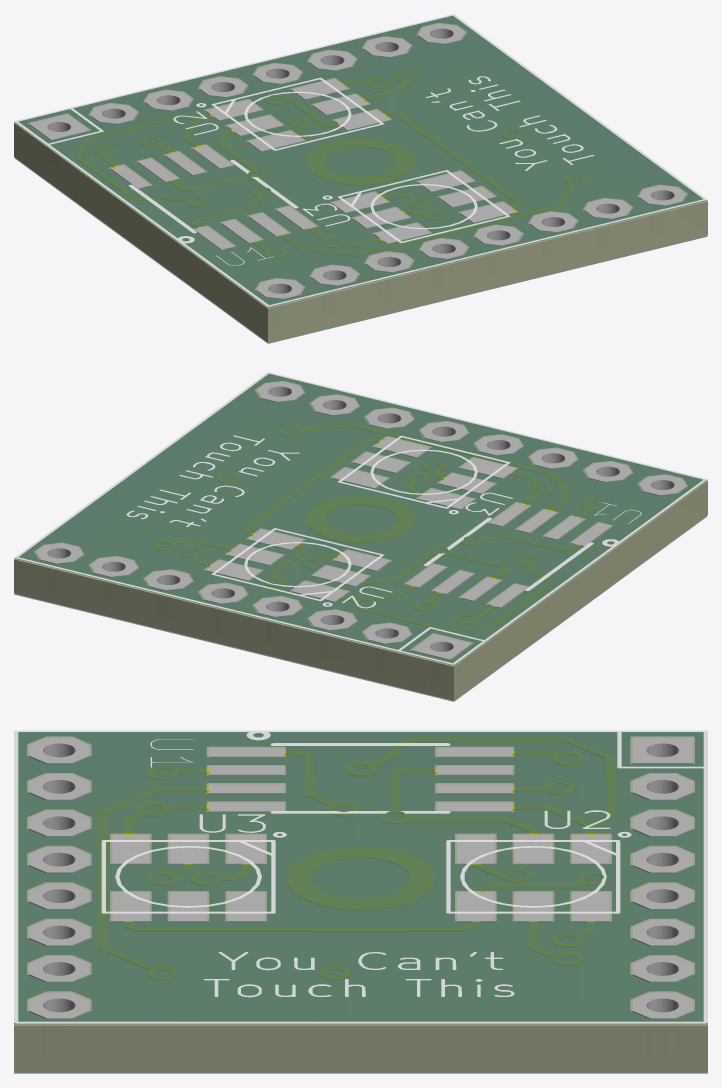
The model's file is hitbutt-minibadge.glb.
The picture shows the model from 3 angles, top to bottom: view 1: azimuth 30°, elevation 25°; view 2: azimuth 150°, elevation 25°; view 3: azimuth 270°, elevation 25°; orthographic projection. The views are drawn at different scales.
Visible parts, largest first — view 1: =>[0:1:1:9], =>[0:1:1:7], =>[0:1:1:2], =>[0:1:1:5]; view 2: =>[0:1:1:9], =>[0:1:1:7], =>[0:1:1:2], =>[0:1:1:5]; view 3: =>[0:1:1:9], =>[0:1:1:7], =>[0:1:1:2], =>[0:1:1:5].
Boxes of the visible parts, bbox=[...] form: =>[0:1:1:9]: bbox=[14, 16, 707, 342]; =>[0:1:1:7]: bbox=[14, 15, 707, 343]; =>[0:1:1:2]: bbox=[29, 23, 686, 299]; =>[0:1:1:5]: bbox=[14, 14, 707, 306]; =>[0:1:1:9]: bbox=[14, 374, 707, 700]; =>[0:1:1:7]: bbox=[14, 373, 707, 701]; =>[0:1:1:2]: bbox=[35, 381, 686, 659]; =>[0:1:1:5]: bbox=[14, 372, 707, 664]; =>[0:1:1:9]: bbox=[14, 733, 707, 1072]; =>[0:1:1:7]: bbox=[14, 732, 707, 1073]; =>[0:1:1:2]: bbox=[29, 737, 692, 1018]; =>[0:1:1:5]: bbox=[14, 730, 707, 1023].
Bounding box in the file's own units: 0.0204 × 0.00166 × 0.0204.
4 materials, 4 textured.
